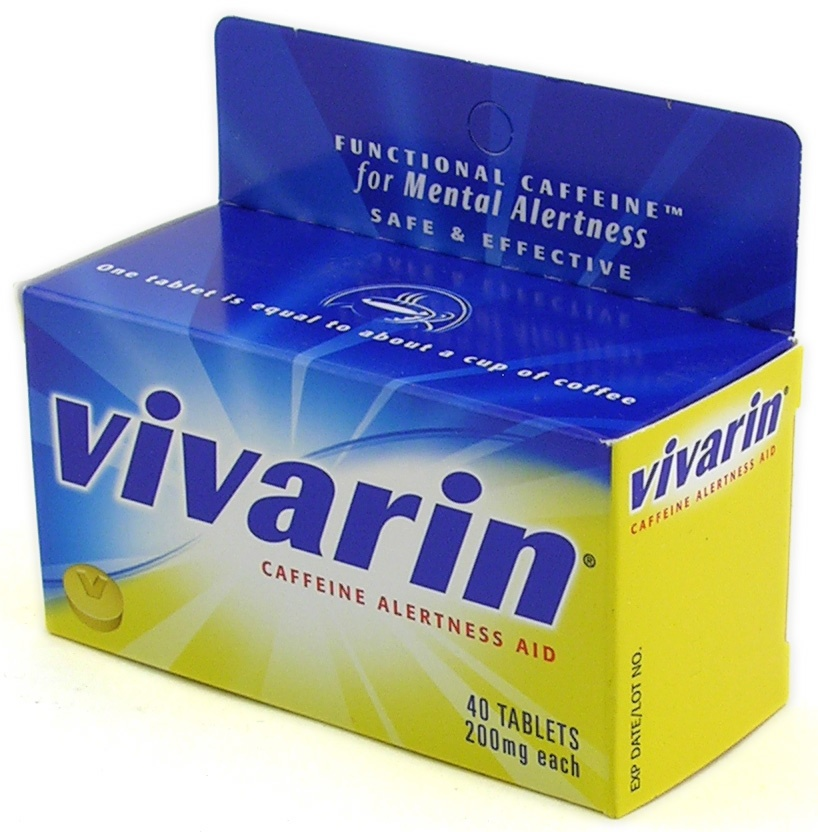grozi_89: (18, 16, 804, 820)
